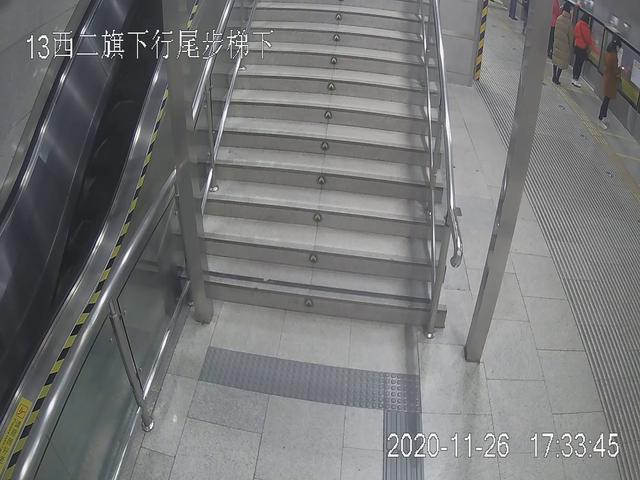person: (594, 37, 628, 126), (547, 1, 580, 84), (573, 8, 591, 92)
